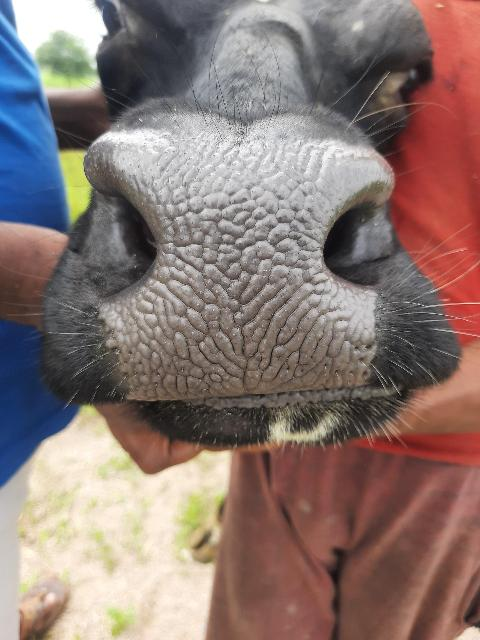Muzzle: (114, 140, 340, 394)
